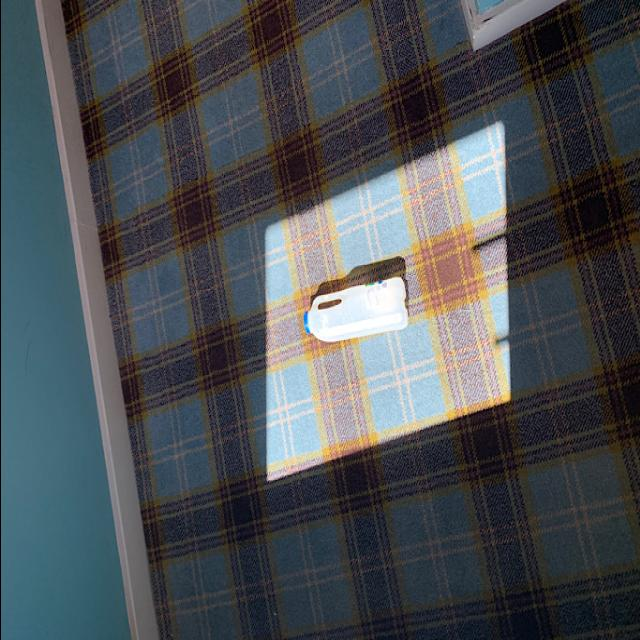HDPEM: (302, 273, 406, 345)
